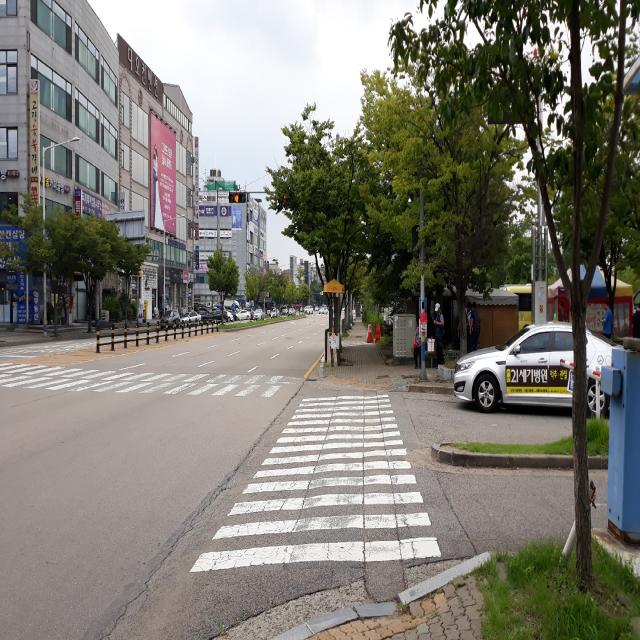횡단보도: (188, 393, 443, 576), (3, 364, 290, 398)
